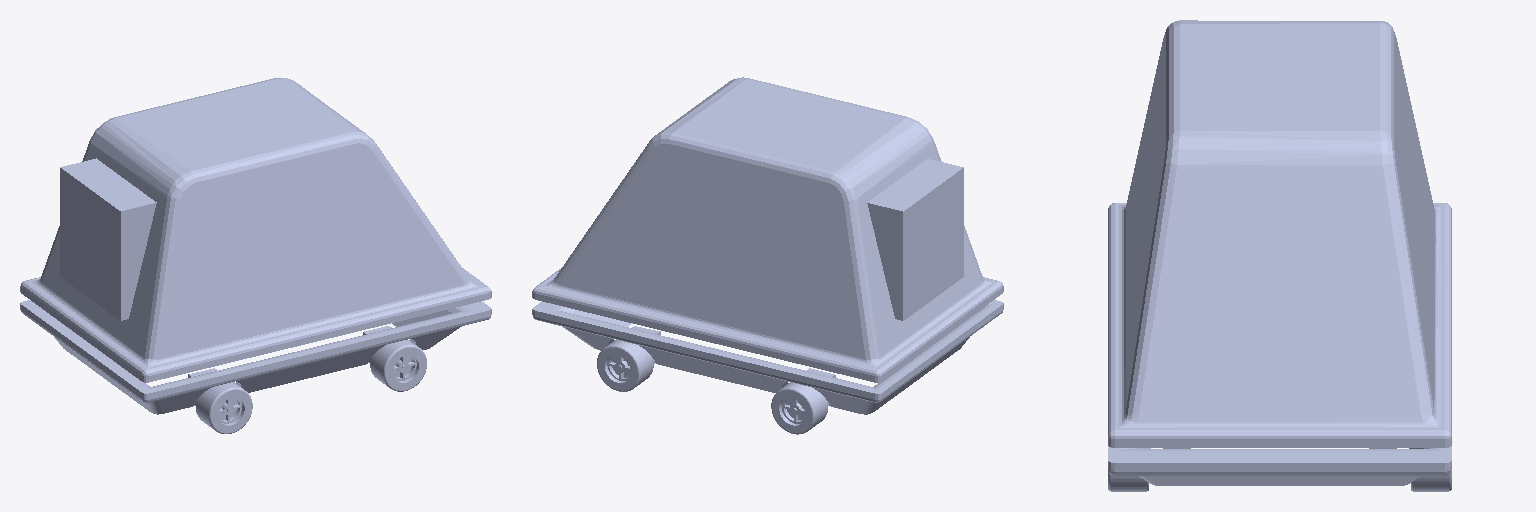
robot.urdf — mse6_description:
<?xml version="1.0" encoding="utf-8"?>
<!-- This URDF was automatically created by SolidWorks to URDF Exporter! Originally created by [author] ([email redacted]) 
     Commit Version: 1.6.0-1-g15f4949  Build Version: 1.6.7594.29634
     For more information, please see http://wiki.ros.org/sw_urdf_exporter -->
<robot
  name="mse6_description">
    
  <link name="base_link"/>
  
  <joint name="body_bott_link_j"
         type="fixed">
      <parent link="base_link"/>
      <child link="body_bott_link"/>
      <origin
          xyz = "0 0 0.055"
          rpy="0 0 3.1416"/>
  </joint>

  <link
    name="body_bott_link">
    <inertial>
      <origin
        xyz="-0.0122155028263459 -4.96658397779976E-08 -0.00438944402790101"
        rpy="0 0 0" />
      <mass
        value="0.669776829617329" />
      <inertia
        ixx="0.00539268235460428"
        ixy="-1.35829186636467E-08"
        ixz="8.340914352775E-05"
        iyy="0.013420683457625"
        iyz="-3.04908606084847E-09"
        izz="0.0186360064602886" />
    </inertial>
    <visual>
      <origin
        xyz="0 0 0"
        rpy="0 0 0" />
      <geometry>
        <mesh
          filename="package://mse6_description/meshes/body_bott_link.STL" />
      </geometry>
      <material
        name="">
        <color
          rgba="0.792156862745098 0.819607843137255 0.933333333333333 1" />
      </material>
    </visual>
    <collision>
      <origin
        xyz="0 0 0"
        rpy="0 0 0" />
      <geometry>
        <mesh
          filename="package://mse6_description/meshes/body_bott_link.STL" />
      </geometry>
    </collision>
  </link>
  <link
    name="body_upper_link">
    <inertial>
      <origin
        xyz="0.0106523635822384 0.0957583223773372 7.70065903718291E-07"
        rpy="0 0 0" />
      <mass
        value="3.31897594877579" />
      <inertia
        ixx="0.0322670587324957"
        ixy="-0.00197272153001404"
        ixz="4.43741515523342E-08"
        iyy="0.0616233997912911"
        iyz="1.63446488019635E-07"
        izz="0.0545208392676588" />
    </inertial>
    <visual>
      <origin
        xyz="0 0 0"
        rpy="0 0 0" />
      <geometry>
        <mesh
          filename="package://mse6_description/meshes/body_upper_link.STL" />
      </geometry>
      <material
        name="">
        <color
          rgba="0.792156862745098 0.819607843137255 0.933333333333333 1" />
      </material>
    </visual>
    <collision>
      <origin
        xyz="0 0 0"
        rpy="0 0 0" />
      <geometry>
        <mesh
          filename="package://mse6_description/meshes/body_upper_link.STL" />
      </geometry>
    </collision>
  </link>
  <joint
    name="body_bottom_j"
    type="fixed">
    <origin
      xyz="0 0 0.024"
      rpy="1.5707963267949 0 0" />
    <parent
      link="body_bott_link" />
    <child
      link="body_upper_link" />
    <axis
      xyz="0 0 0" />
  </joint>

  <link
    name="fwd_left_wheel_holder_link">
    <inertial>
      <origin
        xyz="0 0.00371724710345012 0.0124491235899492"
        rpy="0 0 0" />
      <mass
        value="0.0211931028009629" />
      <inertia
        ixx="3.53229576994219E-06"
        ixy="-3.11019910319938E-22"
        ixz="2.36573655190166E-22"
        iyy="3.30604049675199E-06"
        iyz="1.92941956416194E-07"
        izz="3.06173646956124E-06" />
    </inertial>
    <visual>
      <origin
        xyz="0 0 0"
        rpy="0 0 0" />
      <geometry>
        <mesh
          filename="package://mse6_description/meshes/fwd_left_wheel_holder_link.STL" />
      </geometry>
      <material
        name="">
        <color
          rgba="0.792156862745098 0.819607843137255 0.933333333333333 1" />
      </material>
    </visual>
    <collision>
      <origin
        xyz="0 0 0"
        rpy="0 0 0" />
      <geometry>
        <mesh
          filename="package://mse6_description/meshes/fwd_left_wheel_holder_link.STL" />
      </geometry>
    </collision>
  </link>
  <joint
    name="fwd_left_wheel_holder_j"
    type="revolute">
    <origin
      xyz="-0.1 -0.054 0.065"
      rpy="0 0 0.035451" />
    <parent
      link="body_upper_link" />
    <child
      link="fwd_left_wheel_holder_link" />
    <axis
      xyz="0 1 0" />
    <limit
      lower="-0.5"
      upper="0.5"
      effort="0.5"
      velocity="0.5" />
    <dynamics
      damping="0.01"
      friction="0.05" />
  </joint>
  <link
    name="fwd_left_wheel_link">
    <inertial>
      <origin
        xyz="7.49757243442839E-09 0.0140446440204255 -1.20170077361204E-08"
        rpy="0 0 0" />
      <mass
        value="0.051765802678868" />
      <inertia
        ixx="1.23841652921864E-05"
        ixy="-4.39731323252349E-12"
        ixz="-1.01190667024014E-11"
        iyy="1.76432330584378E-05"
        iyz="8.24926177913857E-12"
        izz="1.23842195690004E-05" />
    </inertial>
    <visual>
      <origin
        xyz="0 0 0"
        rpy="0 0 0" />
      <geometry>
        <mesh
          filename="package://mse6_description/meshes/fwd_left_wheel_link.STL" />
      </geometry>
      <material
        name="">
        <color
          rgba="0.792156862745098 0.819607843137255 0.933333333333333 1" />
      </material>
    </visual>
    <collision>
      <origin
        xyz="0 0 0"
        rpy="0 0 0" />
      <geometry>
        <mesh
          filename="package://mse6_description/meshes/fwd_left_wheel_link.STL" />
      </geometry>
    </collision>
  </link>
  <joint
    name="fwd_left_wheel_j"
    type="continuous">
    <origin
      xyz="0 0 0.03"
      rpy="1.5708 0 1.5353" />
    <parent
      link="fwd_left_wheel_holder_link" />
    <child
      link="fwd_left_wheel_link" />
    <axis
      xyz="0 1 0" />
    <dynamics
      damping="0.05"
      friction="0.01" />
  </joint>

  <link
    name="fwd_right_wheel_holder_link">
    <inertial>
      <origin
        xyz="1.38777878078145E-17 0.00371724710345012 0.00244912358994914"
        rpy="0 0 0" />
      <mass
        value="0.0211931028009629" />
      <inertia
        ixx="3.53229576994218E-06"
        ixy="-1.0977341764353E-22"
        ixz="-1.87522225797809E-22"
        iyy="3.30604049675198E-06"
        iyz="1.92941956416194E-07"
        izz="3.06173646956124E-06" />
    </inertial>
    <visual>
      <origin
        xyz="0 0 0"
        rpy="0 0 0" />
      <geometry>
        <mesh
          filename="package://mse6_description/meshes/fwd_right_wheel_holder_link.STL" />
      </geometry>
      <material
        name="">
        <color
          rgba="0.792156862745098 0.819607843137255 0.933333333333333 1" />
      </material>
    </visual>
    <collision>
      <origin
        xyz="0 0 0"
        rpy="0 0 0" />
      <geometry>
        <mesh
          filename="package://mse6_description/meshes/fwd_right_wheel_holder_link.STL" />
      </geometry>
    </collision>
  </link>
  <joint
    name="fwd_right_wheel_holder_j"
    type="revolute">
    <origin
      xyz="-0.1 -0.054 -0.075"
      rpy="3.1416 0 3.1416" />
    <parent
      link="body_upper_link" />
    <child
      link="fwd_right_wheel_holder_link" />
    <axis
      xyz="0 1 0" />
    <limit
      lower="-0.5"
      upper="0.5"
      effort="0.5"
      velocity="0.5" />
    <dynamics
      damping="0.01"
      friction="0.05" />
  </joint>
  <link
    name="fwd_right_wheel_link">
    <inertial>
      <origin
        xyz="7.49757245177562E-09 0.0140446440204255 -1.20170077083648E-08"
        rpy="0 0 0" />
      <mass
        value="0.051765802678868" />
      <inertia
        ixx="1.23841652921864E-05"
        ixy="-4.39731322971975E-12"
        ixz="-1.01190667028144E-11"
        iyy="1.76432330584378E-05"
        iyz="8.2492617790428E-12"
        izz="1.23842195690004E-05" />
    </inertial>
    <visual>
      <origin
        xyz="0 0 0"
        rpy="0 0 0" />
      <geometry>
        <mesh
          filename="package://mse6_description/meshes/fwd_right_wheel_link.STL" />
      </geometry>
      <material
        name="">
        <color
          rgba="0.792156862745098 0.819607843137255 0.933333333333333 1" />
      </material>
    </visual>
    <collision>
      <origin
        xyz="0 0 0"
        rpy="0 0 0" />
      <geometry>
        <mesh
          filename="package://mse6_description/meshes/fwd_right_wheel_link.STL" />
      </geometry>
    </collision>
  </link>
  <joint
    name="fwd_right_wheel_j"
    type="continuous">
    <origin
      xyz="0 0 0.02"
      rpy="1.5708 0 3.1416" />
    <parent
      link="fwd_right_wheel_holder_link" />
    <child
      link="fwd_right_wheel_link" />
    <axis
      xyz="0 1 0" />
    <dynamics
      damping="0.05"
      friction="0.01" />
  </joint>
  <link
    name="back_left_wheel_holder_link">
    <inertial>
      <origin
        xyz="-1.38777878078145E-17 0.00371724710345012 0.00244912358994914"
        rpy="0 0 0" />
      <mass
        value="0.0211931028009629" />
      <inertia
        ixx="3.53229576994218E-06"
        ixy="-1.3305004692995E-22"
        ixz="2.88569550200515E-22"
        iyy="3.30604049675198E-06"
        iyz="1.92941956416194E-07"
        izz="3.06173646956124E-06" />
    </inertial>
    <visual>
      <origin
        xyz="0 0 0"
        rpy="0 0 0" />
      <geometry>
        <mesh
          filename="package://mse6_description/meshes/back_left_wheel_holder_link.STL" />
      </geometry>
      <material
        name="">
        <color
          rgba="0.792156862745098 0.819607843137255 0.933333333333333 1" />
      </material>
    </visual>
    <collision>
      <origin
        xyz="0 0 0"
        rpy="0 0 0" />
      <geometry>
        <mesh
          filename="package://mse6_description/meshes/back_left_wheel_holder_link.STL" />
      </geometry>
    </collision>
  </link>
  <joint
    name="back_left_wheel_holder_j"
    type="fixed">
    <origin
      xyz="0.1 -0.054 0.075"
      rpy="0 0 0" />
    <parent
      link="body_upper_link" />
    <child
      link="back_left_wheel_holder_link" />
    <axis
      xyz="0 0 0" />
  </joint>
  <link
    name="back_left_wheel_link">
    <inertial>
      <origin
        xyz="7.49757243789784E-09 0.0140446440204255 -1.20170077153037E-08"
        rpy="0 0 0" />
      <mass
        value="0.051765802678868" />
      <inertia
        ixx="1.23841652921864E-05"
        ixy="-4.39731323173739E-12"
        ixz="-1.01190667019079E-11"
        iyy="1.76432330584378E-05"
        iyz="8.24926178262453E-12"
        izz="1.23842195690005E-05" />
    </inertial>
    <visual>
      <origin
        xyz="0 0 0"
        rpy="0 0 0" />
      <geometry>
        <mesh
          filename="package://mse6_description/meshes/back_left_wheel_link.STL" />
      </geometry>
      <material
        name="">
        <color
          rgba="0.792156862745098 0.819607843137255 0.933333333333333 1" />
      </material>
    </visual>
    <collision>
      <origin
        xyz="0 0 0"
        rpy="0 0 0" />
      <geometry>
        <mesh
          filename="package://mse6_description/meshes/back_left_wheel_link.STL" />
      </geometry>
    </collision>
  </link>
  <joint
    name="back_left_wheel_j"
    type="continuous">
    <origin
      xyz="0 0 0.02"
      rpy="1.5708 0 0" />
    <parent
      link="back_left_wheel_holder_link" />
    <child
      link="back_left_wheel_link" />
    <axis
      xyz="0 1 0" />
    <dynamics
      damping="0.01"
      friction="0.05" />
  </joint>
  <link
    name="back_right_wheel_holder_link">
    <inertial>
      <origin
        xyz="-1.38777878078145E-17 0.00371724710345012 0.00244912358994917"
        rpy="0 0 0" />
      <mass
        value="0.0211931028009629" />
      <inertia
        ixx="3.53229576994219E-06"
        ixy="2.11005131993304E-22"
        ixz="-3.28467007444202E-23"
        iyy="3.30604049675199E-06"
        iyz="1.92941956416194E-07"
        izz="3.06173646956124E-06" />
    </inertial>
    <visual>
      <origin
        xyz="0 0 0"
        rpy="0 0 0" />
      <geometry>
        <mesh
          filename="package://mse6_description/meshes/back_right_wheel_holder_link.STL" />
      </geometry>
      <material
        name="">
        <color
          rgba="0.792156862745098 0.819607843137255 0.933333333333333 1" />
      </material>
    </visual>
    <collision>
      <origin
        xyz="0 0 0"
        rpy="0 0 0" />
      <geometry>
        <mesh
          filename="package://mse6_description/meshes/back_right_wheel_holder_link.STL" />
      </geometry>
    </collision>
  </link>
  <joint
    name="back_right_wheel_holder_j"
    type="fixed">
    <origin
      xyz="0.1 -0.054 -0.075"
      rpy="3.1416 0 3.1416" />
    <parent
      link="body_upper_link" />
    <child
      link="back_right_wheel_holder_link" />
    <axis
      xyz="0 0 0" />
  </joint>
  <link
    name="back_right_wheel_link">
    <inertial>
      <origin
        xyz="7.49757243789784E-09 0.0140446440204255 -1.20170077222426E-08"
        rpy="0 0 0" />
      <mass
        value="0.051765802678868" />
      <inertia
        ixx="1.23841652921864E-05"
        ixy="-4.39731323051131E-12"
        ixz="-1.01190667027069E-11"
        iyy="1.76432330584378E-05"
        iyz="8.24926178070993E-12"
        izz="1.23842195690004E-05" />
    </inertial>
    <visual>
      <origin
        xyz="0 0 0"
        rpy="0 0 0" />
      <geometry>
        <mesh
          filename="package://mse6_description/meshes/back_right_wheel_link.STL" />
      </geometry>
      <material
        name="">
        <color
          rgba="0.792156862745098 0.819607843137255 0.933333333333333 1" />
      </material>
    </visual>
    <collision>
      <origin
        xyz="0 0 0"
        rpy="0 0 0" />
      <geometry>
        <mesh
          filename="package://mse6_description/meshes/back_right_wheel_link.STL" />
      </geometry>
    </collision>
  </link>
  <joint
    name="back_right_wheel_j"
    type="continuous">
    <origin
      xyz="0 0 0.02"
      rpy="1.5708 0 1.5708" />
    <parent
      link="back_right_wheel_holder_link" />
    <child
      link="back_right_wheel_link" />
    <axis
      xyz="0 1 0" />
    <dynamics
      damping="0.01"
      friction="0.05" />
  </joint>
</robot>

--- Render facts (derived) ---
The picture shows the robot from 3 angles, left to right: view 1: azimuth 30°, elevation 25°; view 2: azimuth 150°, elevation 25°; view 3: azimuth 270°, elevation 25°; orthographic projection.
Model mse6_description with 11 links and 10 joints (2 revolute, 4 continuous, 4 fixed), rooted at base_link, posed all joints at 0.
Visible links, largest first — view 1: body_upper_link, body_bott_link, fwd_right_wheel_link, back_right_wheel_link; view 2: body_upper_link, body_bott_link, fwd_left_wheel_link, back_left_wheel_link; view 3: body_upper_link, body_bott_link, fwd_left_wheel_link, fwd_right_wheel_link.
Boxes of the visible links, bbox=[...] form: body_upper_link: bbox=[20, 78, 491, 382]; body_bott_link: bbox=[20, 300, 491, 414]; fwd_right_wheel_link: bbox=[370, 340, 426, 391]; back_right_wheel_link: bbox=[196, 382, 252, 433]; body_upper_link: bbox=[532, 77, 1003, 382]; body_bott_link: bbox=[532, 300, 1003, 414]; fwd_left_wheel_link: bbox=[597, 340, 653, 391]; back_left_wheel_link: bbox=[771, 382, 827, 434]; body_upper_link: bbox=[1108, 20, 1451, 447]; body_bott_link: bbox=[1108, 446, 1451, 485]; fwd_left_wheel_link: bbox=[1411, 470, 1451, 491]; fwd_right_wheel_link: bbox=[1108, 470, 1148, 491].
Bounding box of the posed robot: 0.4 × 0.25 × 0.271 m (x, y, z).
10 mesh visuals loaded from 10 distinct referenced files (10 binary STL).